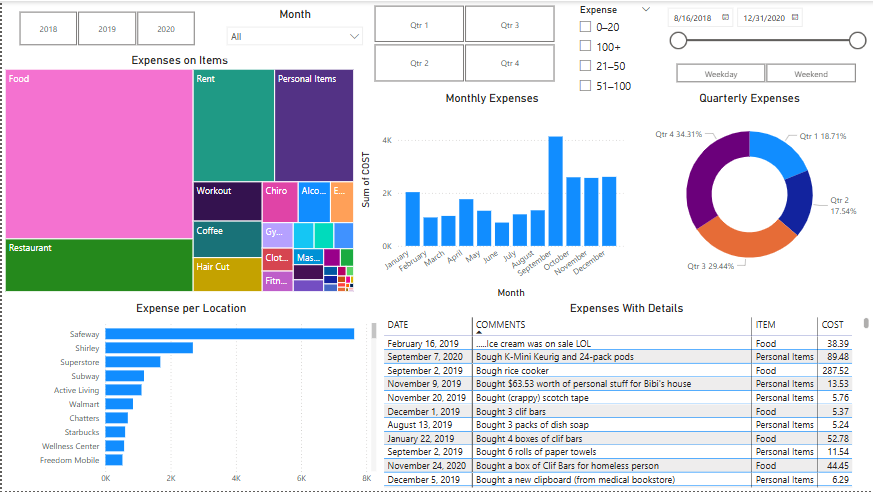

The page's visual inventory and layout, read from the dashboard file:
{"tool":"powerbi","page":{"name":"Page 1","canvas":[1280,720],"ordinal":0},"visuals":[{"type":"clusteredColumnChart","title":"Monthly Expenses","fields":{"Y":["Financial_Data.COST"],"Category":["Financial_Data.DATE.Variation.Date Hierarchy.Month"]},"box":[521.6,132.2,396.7,308.6],"z":0},{"type":"treemap","title":"Expenses on Items","fields":{"Group":["Financial_Data.ITEM"],"Values":["Financial_Data.COST"]},"box":[0,76.4,521.6,355.6],"z":1000},{"type":"tableEx","title":"Expenses With Details","fields":{"Values":["Financial_Data.DATE","Financial_Data.COMMENTS","Financial_Data.ITEM","Financial_Data.COST"]},"box":[555.4,440.8,724.4,279.2],"z":2000},{"type":"clusteredBarChart","title":"Expense per Location","fields":{"Category":["Financial_Data.LOCATION"],"Y":["Financial_Data.COST"]},"box":[0,440.8,555.4,279.2],"z":3000},{"type":"slicer","fields":{"Values":["Financial_Data.Cost Range"]},"box":[836.1,0,129.3,144],"z":4000},{"type":"donutChart","title":"Quarterly Expenses","fields":{"Y":["Financial_Data.COST"],"Category":["Financial_Data.DATE.Variation.Date Hierarchy.Quarter"]},"box":[918.4,132.2,360,285.1],"z":5000},{"type":"slicer","fields":{"Values":["Financial_Data.DATE.Variation.Date Hierarchy.Year"]},"box":[0,8.8,307.1,63.2],"z":6000},{"type":"slicer","fields":{"Values":["Financial_Data.DATE.Variation.Date Hierarchy.Quarter"]},"box":[521.6,0,314.4,124.9],"z":7000},{"type":"slicer","fields":{"Values":["Financial_Data.DATE"]},"box":[965.4,0,313,76.4],"z":8000},{"type":"slicer","title":"Month","fields":{"Values":["Financial_Data.DATE.Variation.Date Hierarchy.Month"]},"box":[320.3,8.8,220.4,76.4],"z":9000},{"type":"slicer","fields":{"Values":["Financial_Data.Day Type"]},"box":[965.4,85.2,313,41.1],"z":9001}]}

Visuals, with their boxes in screenshot pixels (x1, y1, x2, y2), scaled from the page's 1280x720 canvas onto the 873x492 screenshot:
"Monthly Expenses" clusteredColumnChart: <region>356, 90, 626, 301</region>
"Expenses on Items" treemap: <region>0, 52, 356, 295</region>
"Expenses With Details" tableEx: <region>379, 301, 872, 491</region>
"Expense per Location" clusteredBarChart: <region>0, 301, 379, 491</region>
slicer - Financial_Data.Cost Range: <region>570, 0, 658, 98</region>
"Quarterly Expenses" donutChart: <region>626, 90, 872, 285</region>
slicer - Financial_Data.DATE.Variation.Date Hierarchy.Year: <region>0, 6, 209, 49</region>
slicer - Financial_Data.DATE.Variation.Date Hierarchy.Quarter: <region>356, 0, 570, 85</region>
slicer - Financial_Data.DATE: <region>658, 0, 872, 52</region>
"Month" slicer: <region>218, 6, 369, 58</region>
slicer - Financial_Data.Day Type: <region>658, 58, 872, 86</region>
